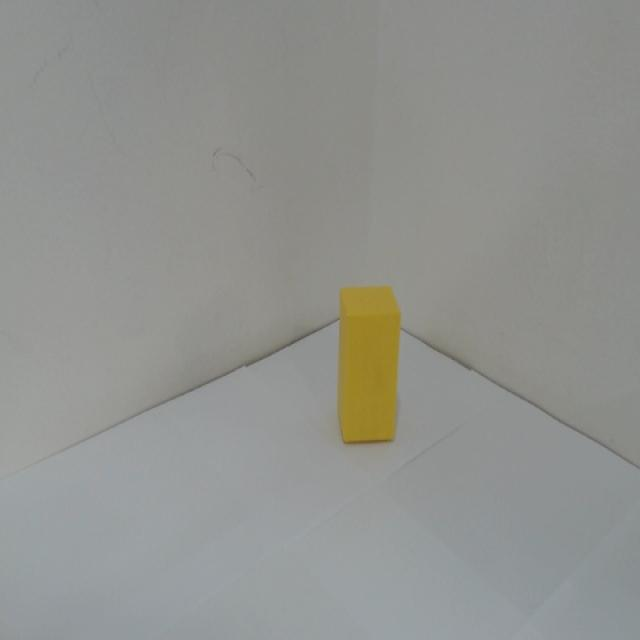cube: (335, 285, 403, 446)
